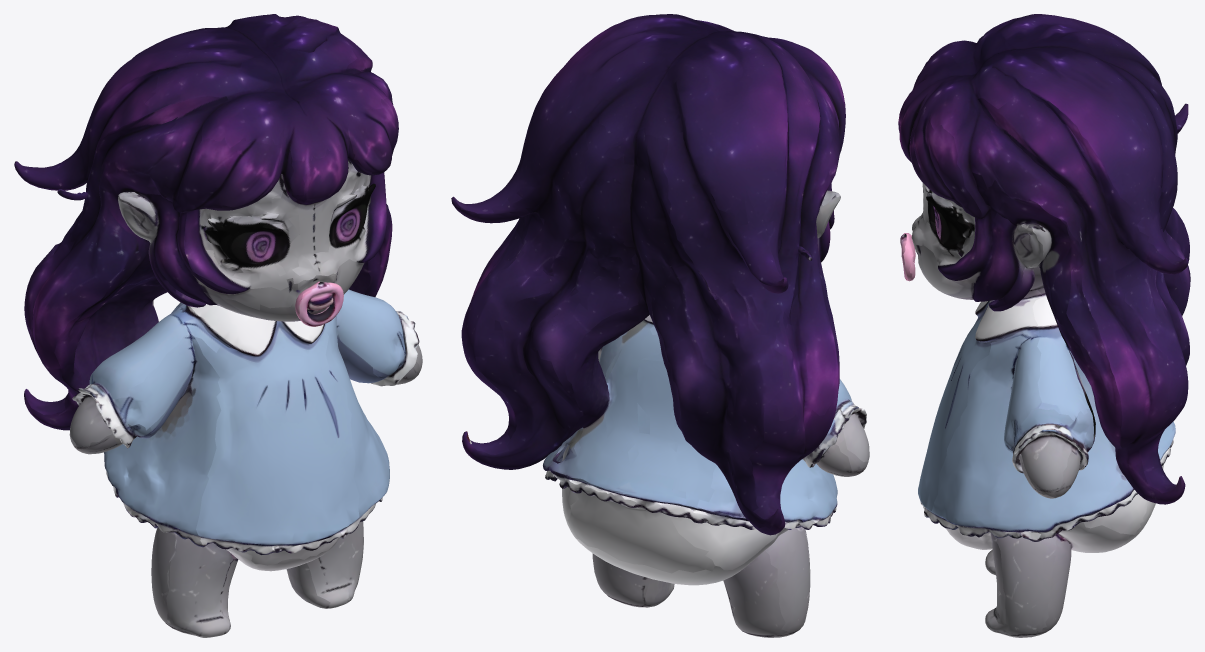
Rendered from babystardoll.glb.
The picture shows the model from 3 angles, left to right: view 1: azimuth 30°, elevation 25°; view 2: azimuth 150°, elevation 25°; view 3: azimuth 270°, elevation 25°; orthographic projection. The views are drawn at different scales.
Parts seen in each view (by area): view 1: temp_mesh.ply; view 2: temp_mesh.ply; view 3: temp_mesh.ply.
Part boxes in pixels (x1,y1,x2,y2): temp_mesh.ply: (14,14,422,637); temp_mesh.ply: (451,14,869,637); temp_mesh.ply: (898,14,1190,637).
Size of the model in its own units: 1.29 by 1.97 by 0.9371.
1 material, 1 textured.
